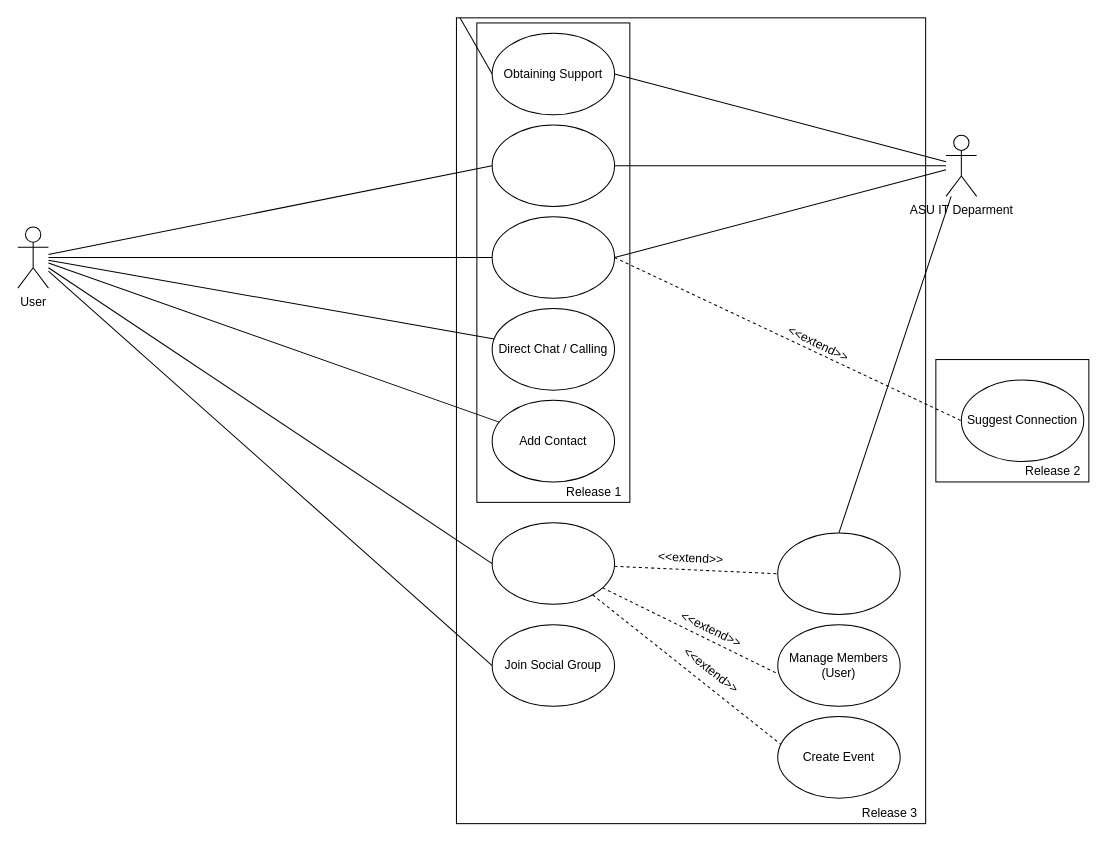
Some shapes in this 1107 by 842 pixel diagram are drawn without their labels. The box of each missing label's shape, as (x1, y1, x2, y2) in pixels:
Create Social Group: (491, 522, 615, 604)
Manage Account: (491, 124, 615, 207)
Manage Profile: (491, 216, 615, 298)
Manage Social Group: (777, 532, 900, 615)
